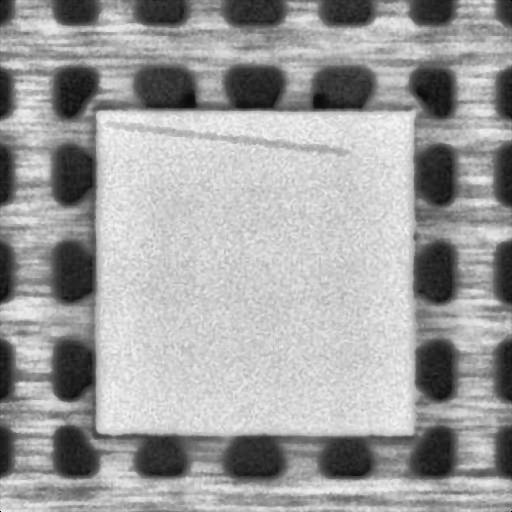DIE_CRACK: (109, 120, 353, 148)
